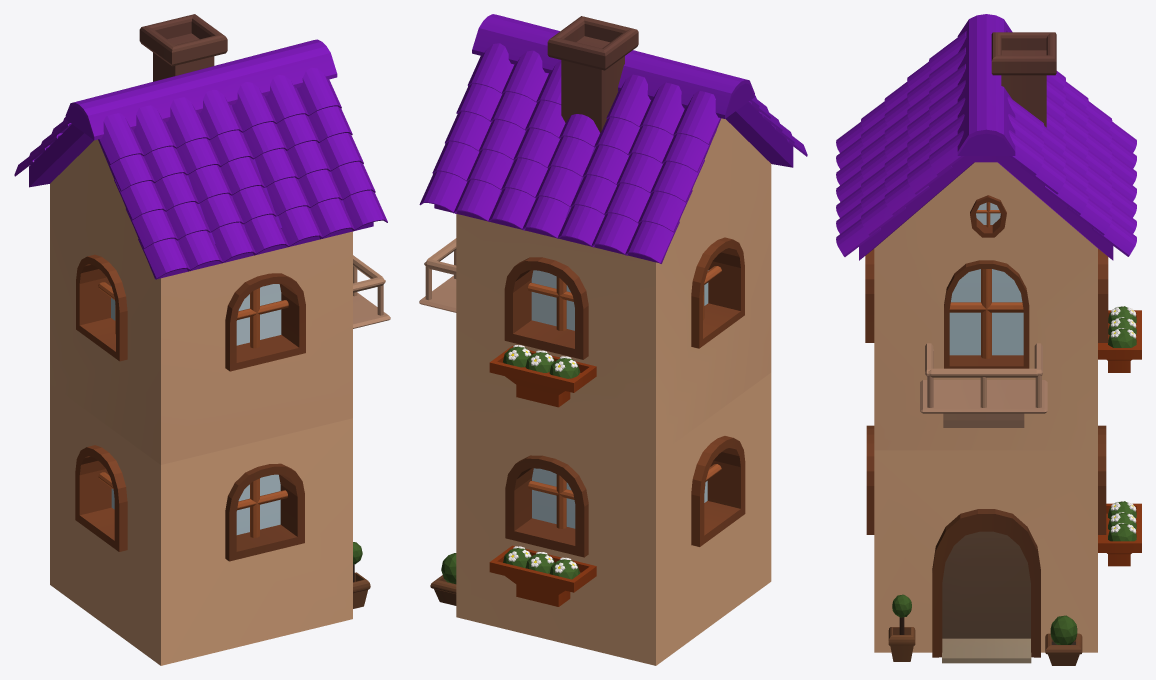
The model's file is mor çatılı ev.fbx.
The picture shows the model from 3 angles, left to right: view 1: azimuth 30°, elevation 25°; view 2: azimuth 150°, elevation 25°; view 3: azimuth 270°, elevation 25°; orthographic projection. The views are drawn at different scales.
Parts seen in each view (by area): view 1: Plane.004; view 2: Plane.004; view 3: Plane.004.
Part boxes in pixels (<box>): Plane.004: <box>14,14,390,665</box>; Plane.004: <box>419,14,807,665</box>; Plane.004: <box>836,14,1141,665</box>.
Size of the model in its own units: 292 by 555 by 274.
1 material, 1 textured.
